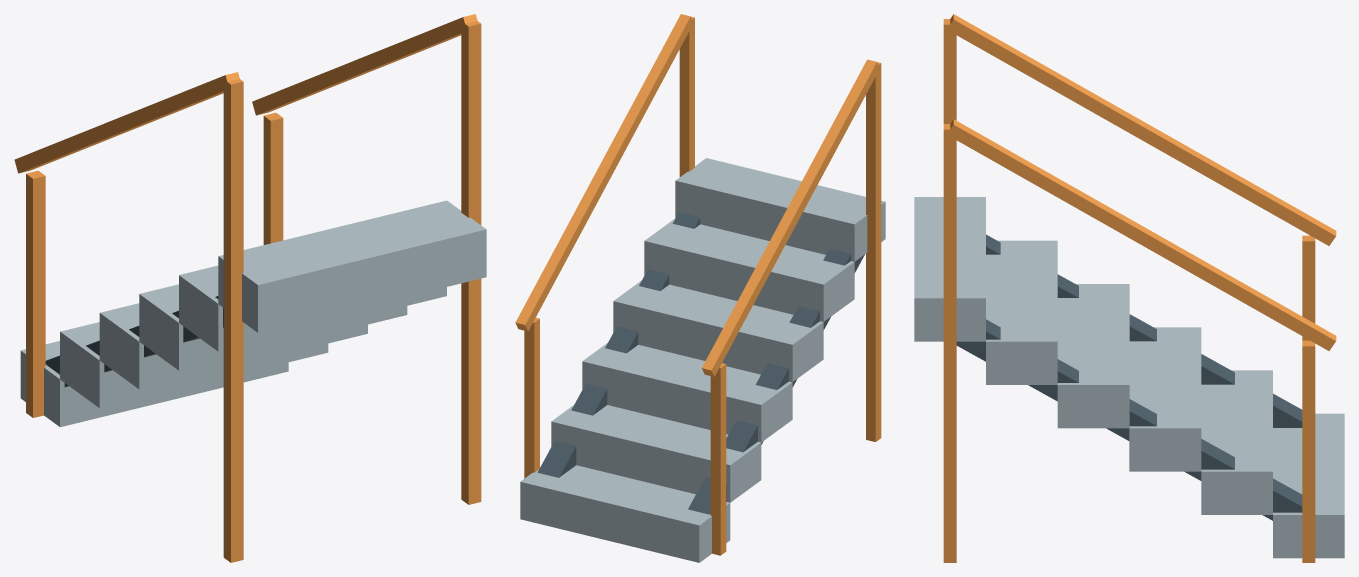
File: factory-access-stairs.glb
3 views of the same model, side by side, from view 1: azimuth 30°, elevation 25°; view 2: azimuth 150°, elevation 25°; view 3: azimuth 270°, elevation 25° (orthographic). The views are drawn at different scales.
Parts seen in each view (by area): view 1: steel, orange, dark; view 2: steel, orange, dark; view 3: steel, orange, dark.
Part boxes in pixels (x1,y1,x2,y2): steel: (20,200,486,427); orange: (14,14,481,562); dark: (45,296,223,386); steel: (520,158,885,562); orange: (515,14,881,555); dark: (537,212,864,514); steel: (914,197,1344,558); orange: (943,14,1336,562); dark: (956,234,1302,520).
Size of the model in its own units: 1.1 by 2.02 by 1.8.
